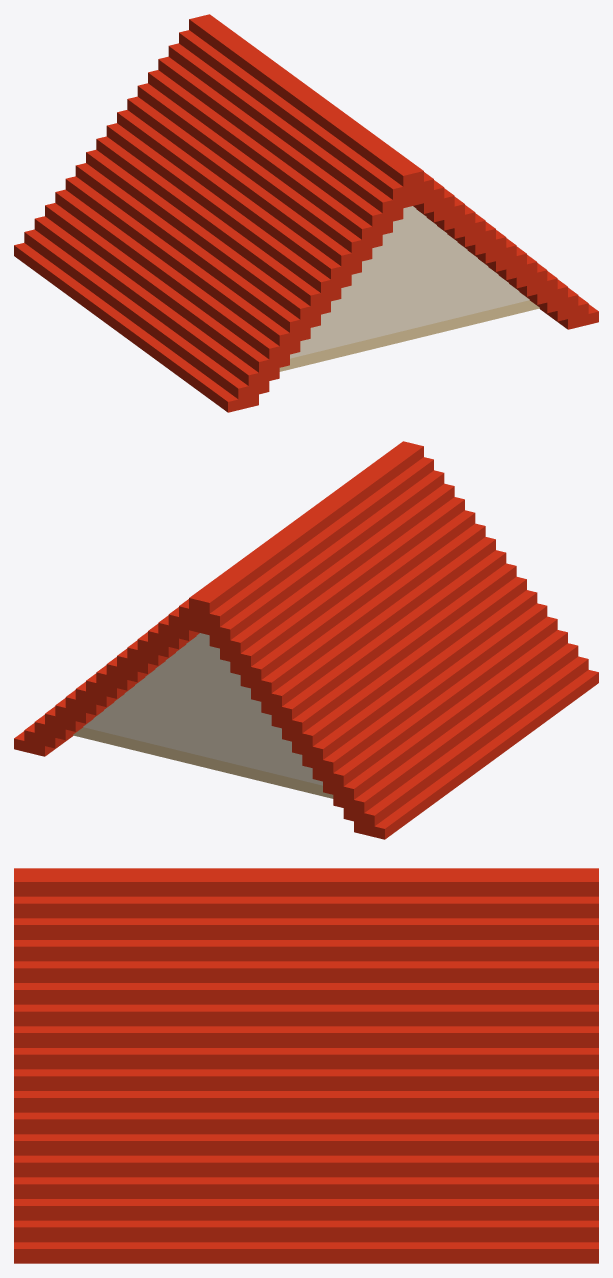
Rendered from roof_I.obj.
3 views of the same model, one above another, from view 1: azimuth 30°, elevation 25°; view 2: azimuth 150°, elevation 25°; view 3: azimuth 270°, elevation 25° (orthographic). The views are drawn at different scales.
Size of the model in its own units: 3.6 by 1.8 by 3.6.
1 material, 1 textured.
